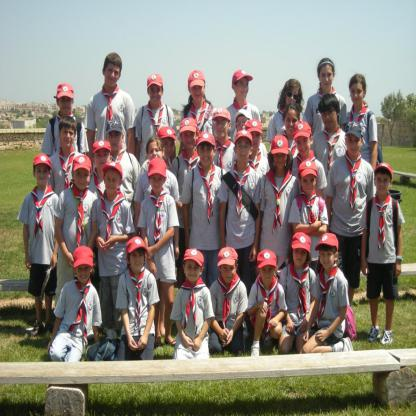face: (74, 168, 91, 190), (106, 170, 121, 194), (95, 148, 111, 170), (237, 137, 251, 162), (221, 263, 237, 284), (105, 65, 120, 87), (199, 144, 214, 166), (321, 66, 334, 91), (286, 111, 299, 136), (376, 173, 390, 196), (130, 250, 145, 271), (321, 110, 338, 128), (347, 135, 362, 155), (61, 127, 75, 148), (297, 136, 311, 157), (149, 142, 163, 163), (351, 83, 364, 105), (36, 164, 49, 186), (108, 132, 123, 151), (303, 175, 317, 195), (215, 119, 229, 139), (183, 130, 197, 150), (187, 261, 201, 281), (76, 265, 91, 283), (238, 78, 250, 100), (150, 84, 163, 104), (163, 138, 175, 159), (151, 174, 165, 192), (321, 252, 335, 270), (294, 248, 308, 266), (261, 265, 275, 283), (191, 84, 205, 101), (60, 97, 73, 115), (286, 87, 299, 105), (250, 132, 262, 151), (237, 117, 250, 134), (274, 154, 288, 168)
